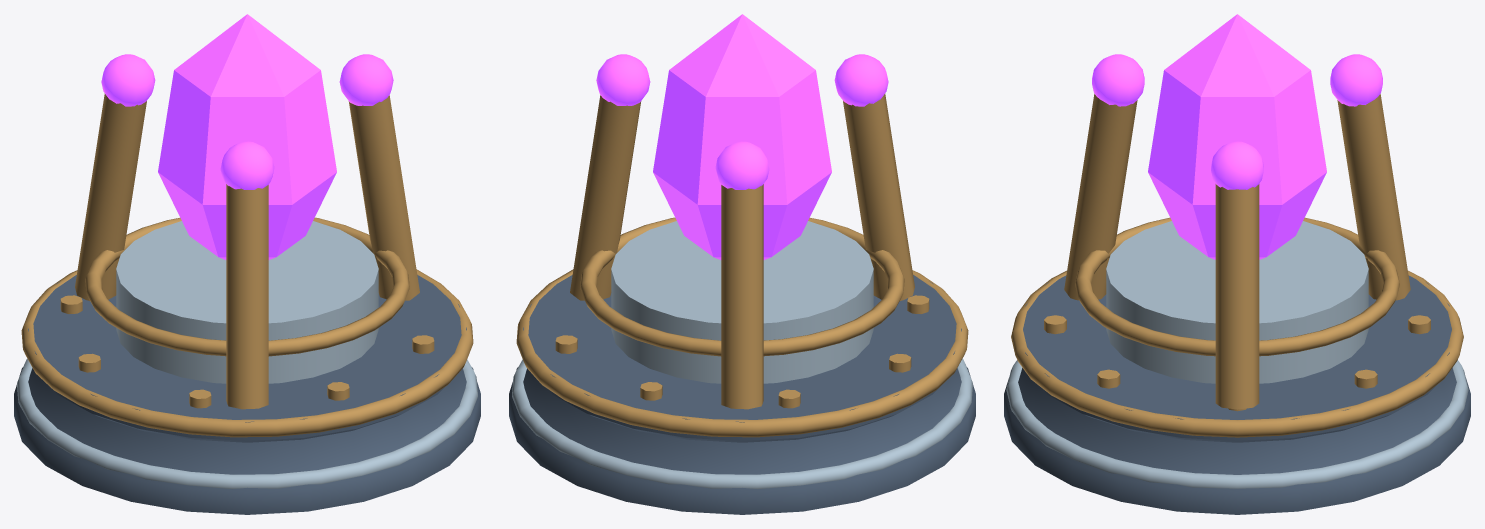
The model's file is moonsteel-convergence-lunar-inhibitor-ddd3da6c__18156.glb.
3 views of the same model, side by side, from view 1: azimuth 30°, elevation 25°; view 2: azimuth 150°, elevation 25°; view 3: azimuth 270°, elevation 25° (orthographic).
Visible parts, largest first — view 1: lunar-inhibitor; view 2: lunar-inhibitor; view 3: lunar-inhibitor.
Part boxes in pixels (x1,y1,x2,y2): lunar-inhibitor: (14, 14, 480, 514); lunar-inhibitor: (509, 14, 975, 514); lunar-inhibitor: (1004, 14, 1470, 514).
Bounding box in the file's own units: 2.24 × 2.13 × 2.24.
